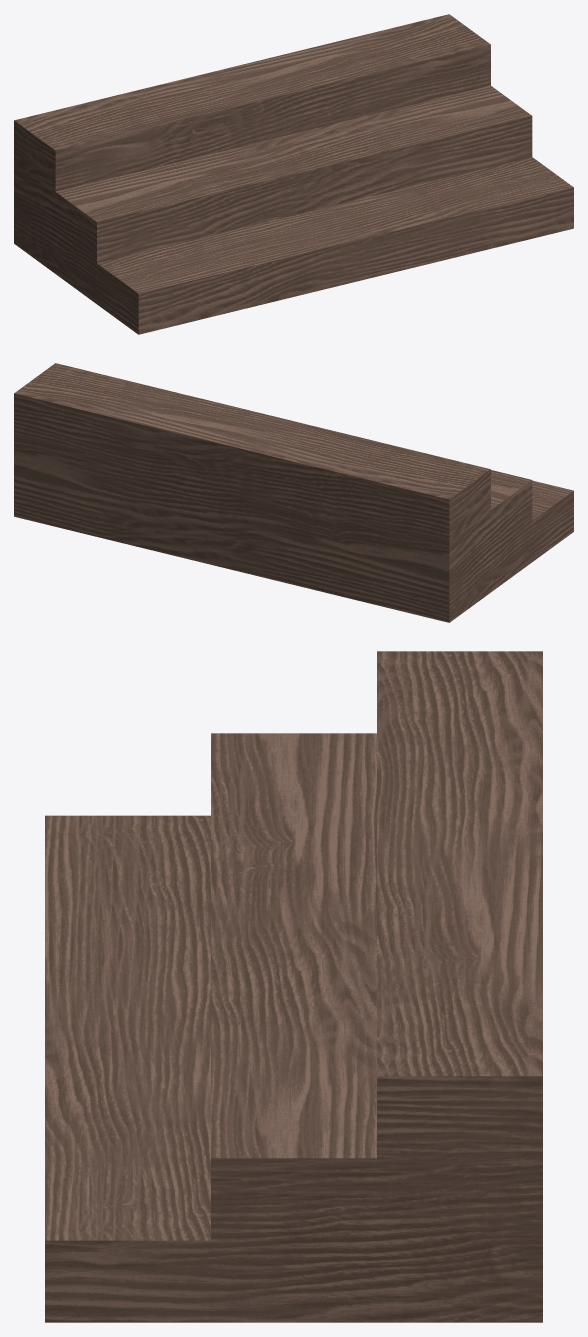
The model's file is ladder_013.fbx.
The picture shows the model from 3 angles, top to bottom: view 1: azimuth 30°, elevation 25°; view 2: azimuth 150°, elevation 25°; view 3: azimuth 270°, elevation 25°; orthographic projection. The views are drawn at different scales.
Parts seen in each view (by area): view 1: ladder_013; view 2: ladder_013; view 3: ladder_013.
Part boxes in pixels (<box>): ladder_013: <box>14,14,573,334</box>; ladder_013: <box>14,363,573,622</box>; ladder_013: <box>45,651,542,1322</box>.
Bounding box in the file's own units: 162 × 80.27 × 43.82.
